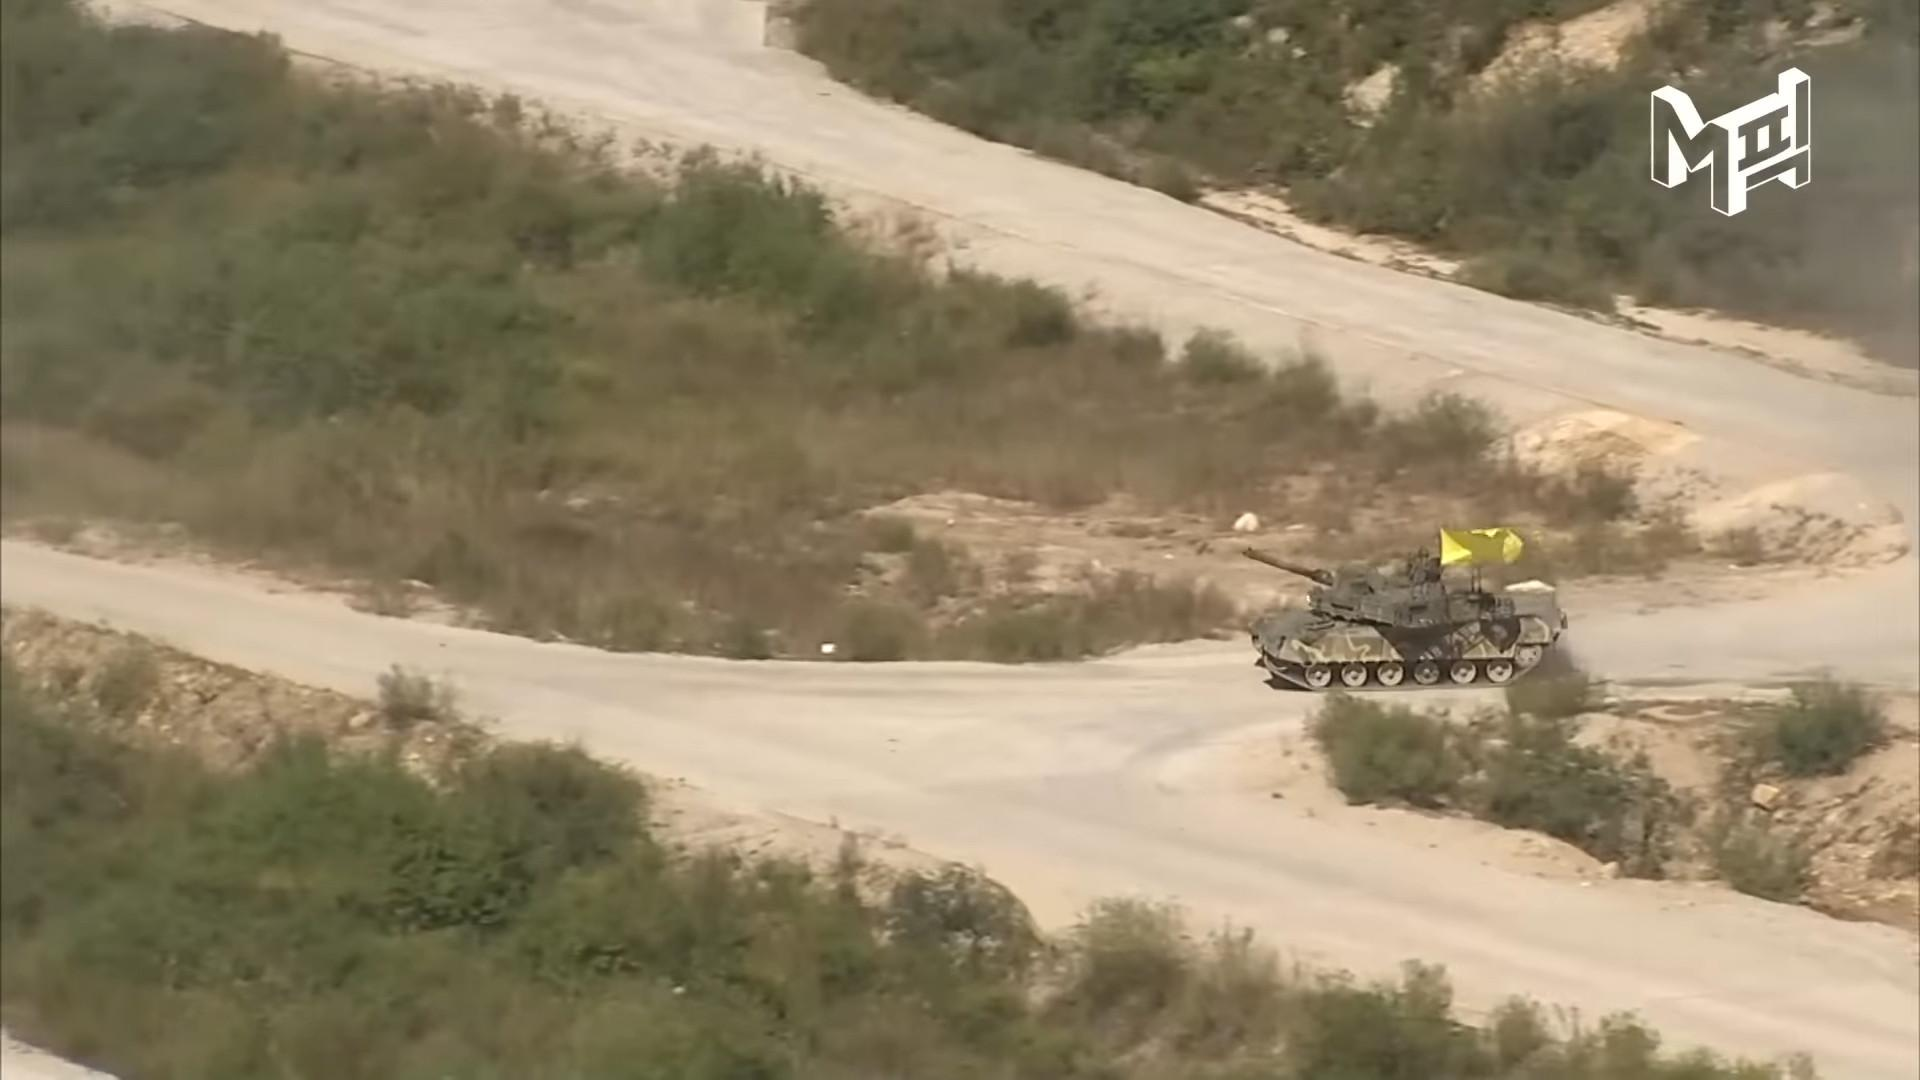tank: (1244, 545, 1564, 692)
